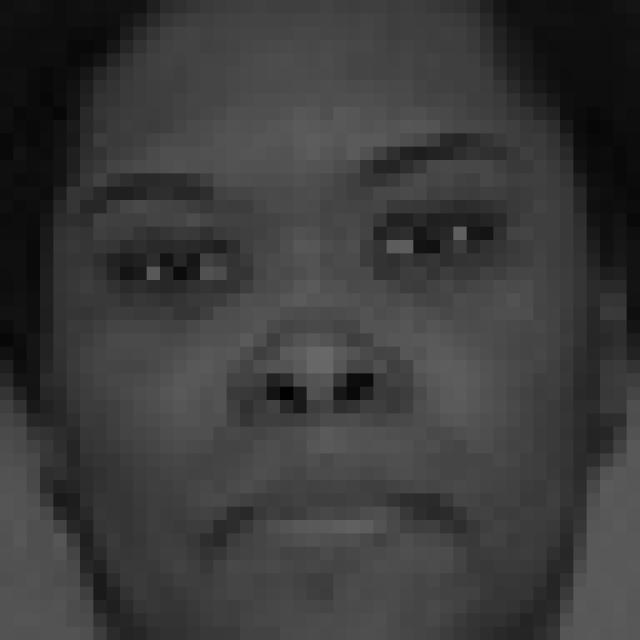neutral: (66, 116, 528, 593)
